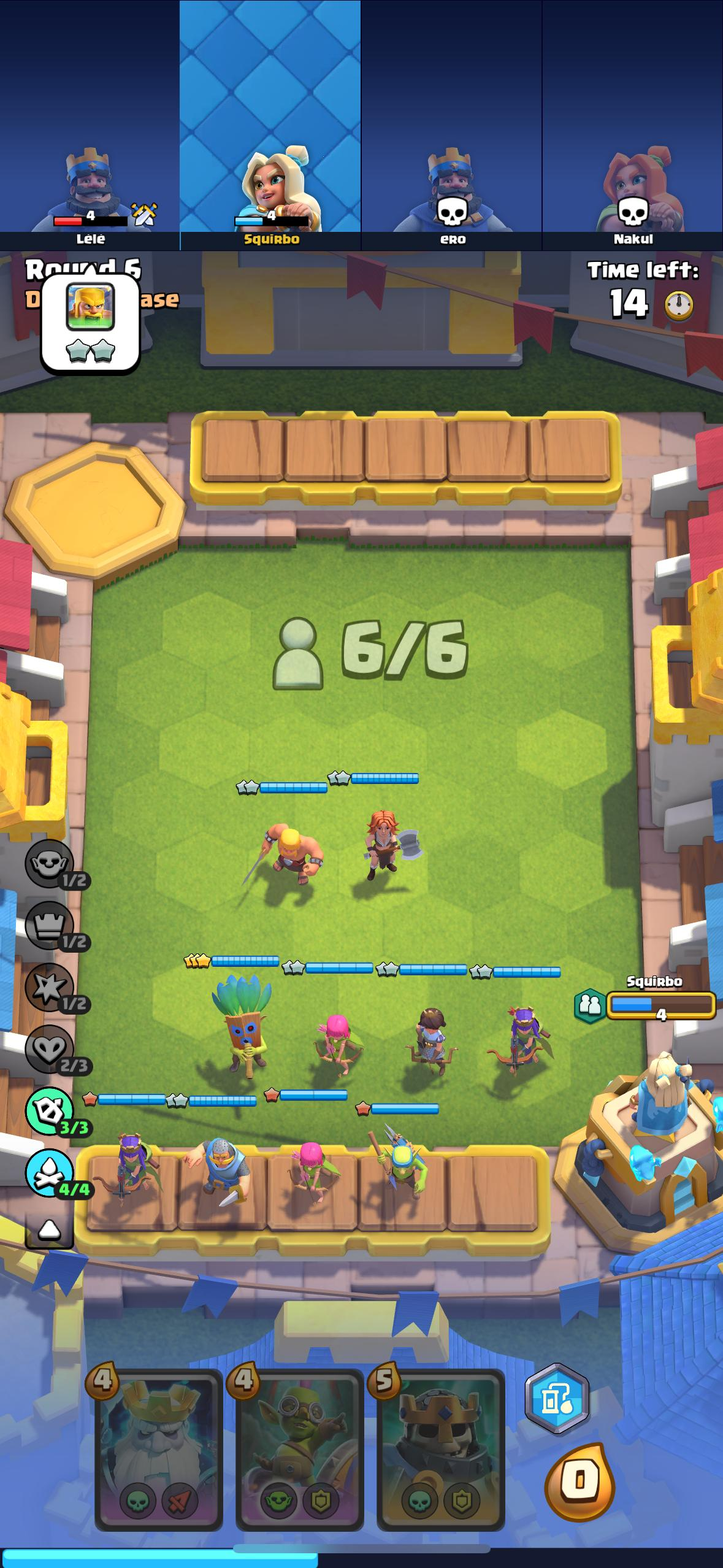archer: (313, 1007, 361, 1083), (286, 1129, 334, 1204)
barbarian: (256, 818, 317, 884)
dart: (209, 972, 276, 1073)
hand-ghost: (94, 1368, 224, 1527)
hand-king: (375, 1373, 503, 1531)
hand-machine: (237, 1369, 365, 1523)
knight: (186, 1129, 250, 1214)
princess: (407, 1000, 460, 1082)
queen: (484, 1001, 549, 1079), (104, 1129, 163, 1206)
spear: (358, 1123, 432, 1207)
valkyrie: (357, 801, 415, 877)
